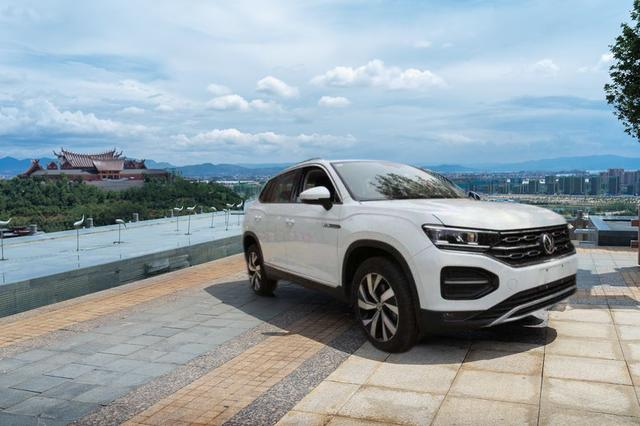汽车: (233, 148, 585, 375)
